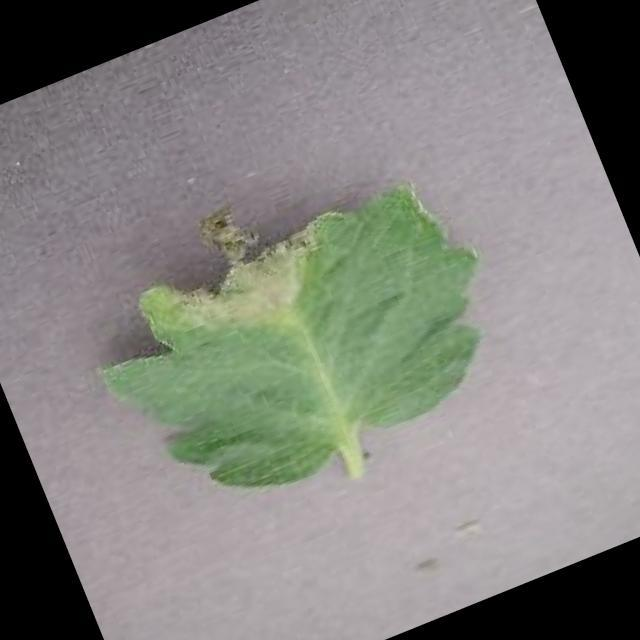Tomato late blight leaf: (55, 119, 538, 538)
